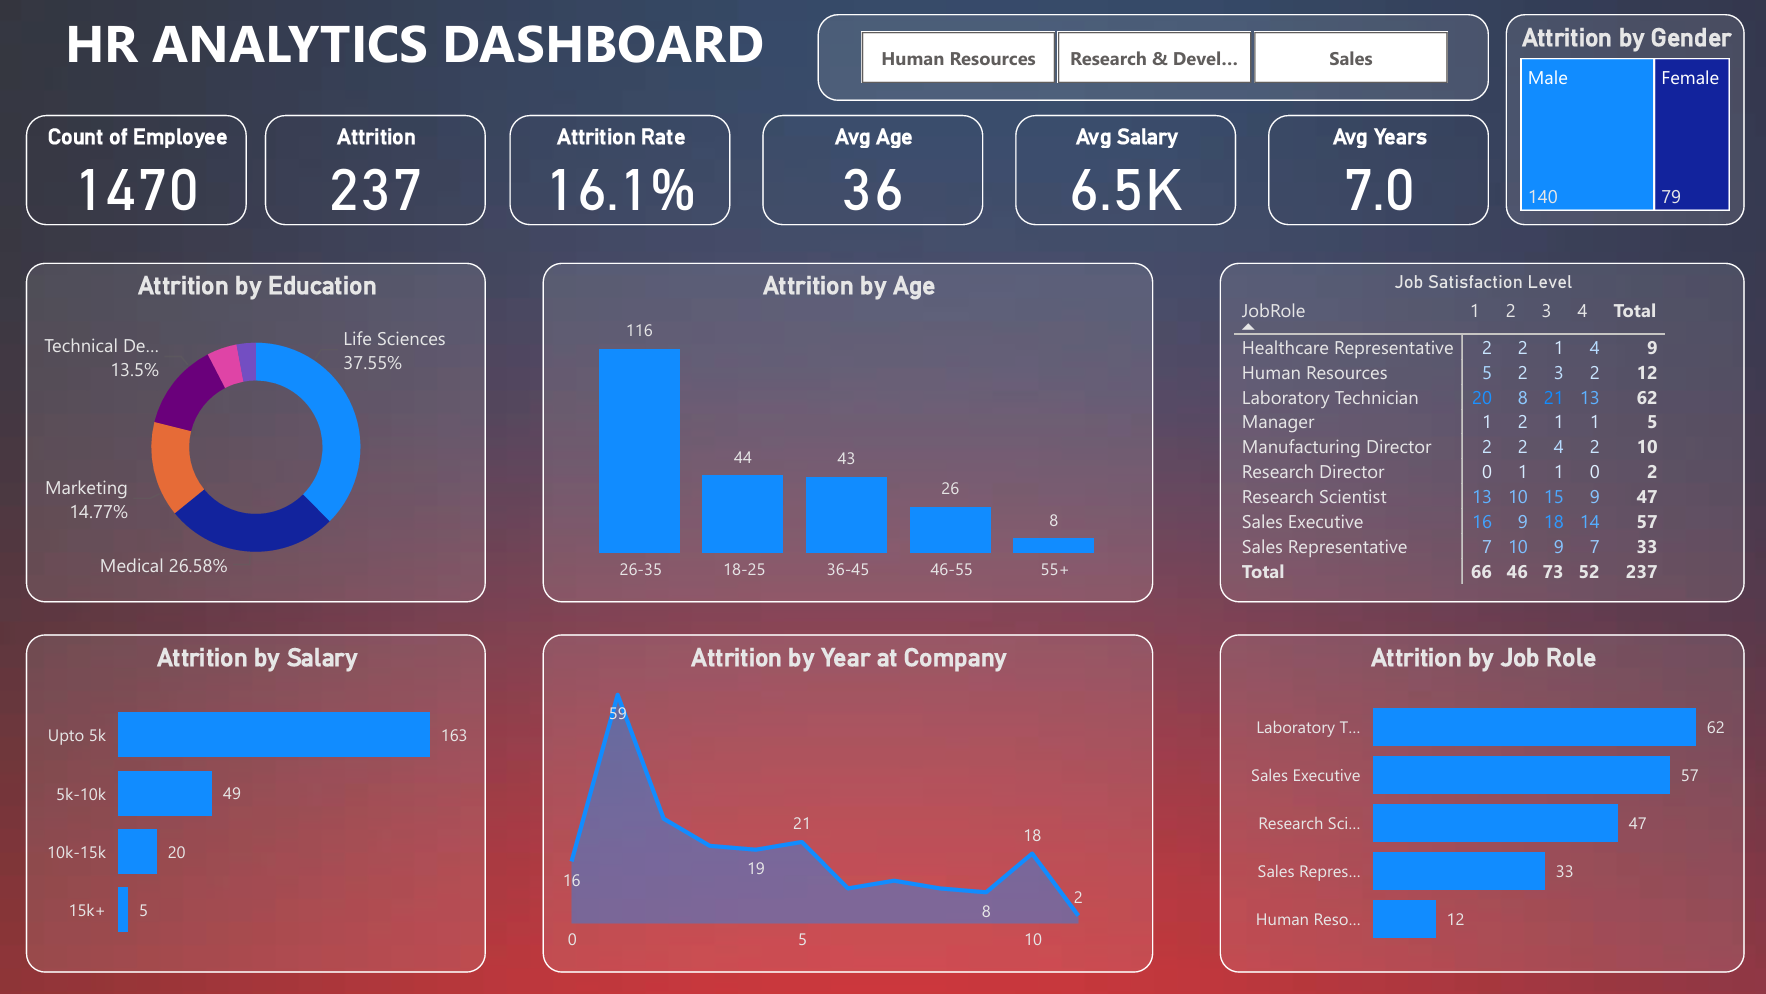

The dashboard page shown, as its layout file describes it:
{"tool":"powerbi","page":{"name":"Page 1","canvas":[1280,720],"ordinal":0},"visuals":[{"type":"card","title":"Count of Employee","fields":{"Values":["Count(HR_Analytics.EmpID)"]},"box":[20,82.9,160,80],"z":0},{"type":"card","title":"Attrition","fields":{"Values":["Sum(HR_Analytics.Attrition count)"]},"box":[192.9,82.9,160,80],"z":1000},{"type":"card","title":"Attrition Rate","fields":{"Values":["HR_Analytics.Attrition Rate"]},"box":[370,82.9,160,80],"z":2000},{"type":"card","title":"Avg Age","fields":{"Values":["Median(HR_Analytics.Age)"]},"box":[552.9,82.9,160,80],"z":3000},{"type":"card","title":"Avg Salary","fields":{"Values":["Avg(HR_Analytics.MonthlyIncome)"]},"box":[735.7,82.9,160,80],"z":4000},{"type":"card","title":"Avg Years","fields":{"Values":["Avg(HR_Analytics.YearsAtCompany)"]},"box":[918.6,83.3,160,80],"z":5000},{"type":"donutChart","title":"Attrition by Education","fields":{"Category":["HR_Analytics.EducationField"],"Y":["Sum(HR_Analytics.Attrition count)"]},"box":[20,190,332.9,245.7],"z":6000},{"type":"columnChart","title":"Attrition by Age","fields":{"Category":["HR_Analytics.AgeGroup"],"Y":["Sum(HR_Analytics.Attrition count)"]},"box":[394.3,190,441.4,245.7],"z":7000},{"type":"pivotTable","title":" Job Satisfaction Level","fields":{"Rows":["HR_Analytics.JobRole"],"Columns":["HR_Analytics.JobSatisfaction"],"Values":["Sum(HR_Analytics.Attrition count)"]},"box":[884.3,190,380,245.7],"z":8000},{"type":"barChart","title":"Attrition by Salary","fields":{"Category":["HR_Analytics.SalarySlab"],"Y":["Sum(HR_Analytics.Attrition count)"]},"box":[20,458.6,332.9,245.7],"z":9000},{"type":"barChart","title":"Attrition by Job Role","fields":{"Category":["HR_Analytics.JobRole"],"Y":["Sum(HR_Analytics.Attrition count)"]},"box":[884.3,458.6,380,245.7],"z":10000},{"type":"areaChart","title":"Attrition by Year at Company","fields":{"Category":["HR_Analytics.YearsAtCompany"],"Y":["Sum(HR_Analytics.Attrition count)"]},"box":[394.3,458.6,441.4,245.7],"z":11000},{"type":"treemap","title":"Attrition by Gender","fields":{"Group":["HR_Analytics.Gender"],"Values":["Sum(HR_Analytics.Attrition count)"]},"box":[1091.4,10,172.9,152.9],"z":12000},{"type":"slicer","fields":{"Values":["HR_Analytics.Department"]},"box":[592.9,10,485.7,62.9],"z":13000},{"type":"textbox","box":[8.6,0,584.3,72.9],"z":14000}]}

Visuals, with their boxes in screenshot pixels (x1, y1, x2, y2), scaled from the page's 1280x720 canvas onto the 1766x994 screenshot:
"Count of Employee" card: [left=28, top=114, right=248, bottom=225]
"Attrition" card: [left=266, top=114, right=487, bottom=225]
"Attrition Rate" card: [left=510, top=114, right=731, bottom=225]
"Avg Age" card: [left=763, top=114, right=984, bottom=225]
"Avg Salary" card: [left=1015, top=114, right=1236, bottom=225]
"Avg Years" card: [left=1267, top=115, right=1488, bottom=225]
"Attrition by Education" donutChart: [left=28, top=262, right=487, bottom=602]
"Attrition by Age" columnChart: [left=544, top=262, right=1153, bottom=602]
" Job Satisfaction Level" pivotTable: [left=1220, top=262, right=1744, bottom=602]
"Attrition by Salary" barChart: [left=28, top=633, right=487, bottom=972]
"Attrition by Job Role" barChart: [left=1220, top=633, right=1744, bottom=972]
"Attrition by Year at Company" areaChart: [left=544, top=633, right=1153, bottom=972]
"Attrition by Gender" treemap: [left=1506, top=14, right=1744, bottom=225]
slicer - HR_Analytics.Department: [left=818, top=14, right=1488, bottom=101]
textbox: [left=12, top=0, right=818, bottom=101]
